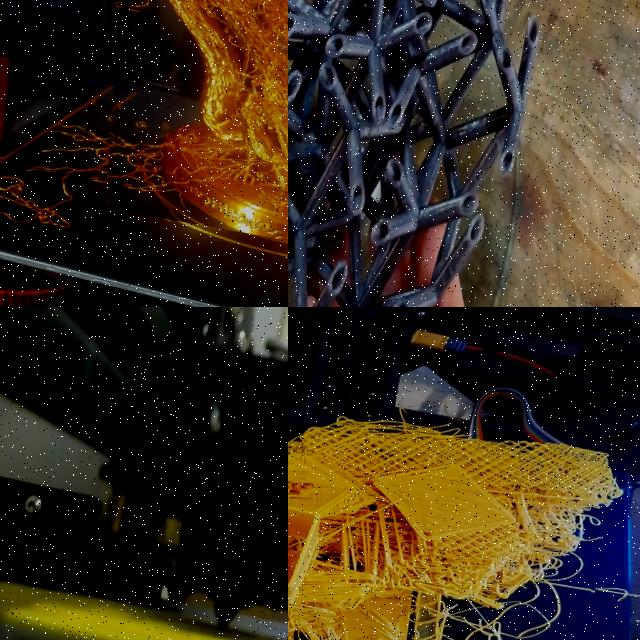spaghetti: (67, 0, 288, 286), (406, 429, 618, 640), (288, 558, 613, 640), (0, 151, 78, 248)
